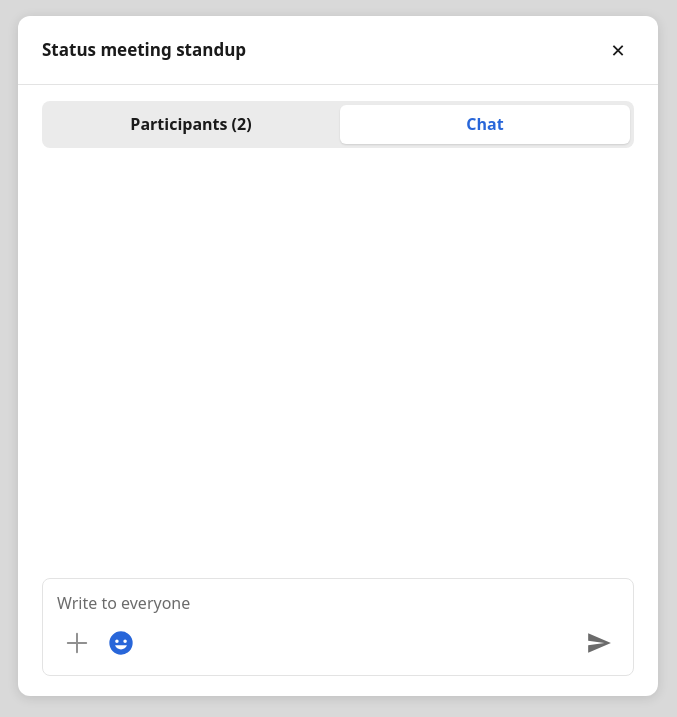
Scenario: presence › you are marked in the list, and nobody else is
Step 1. Click the tab "Participants (2)" → click(191, 125), box [46, 105, 336, 144]
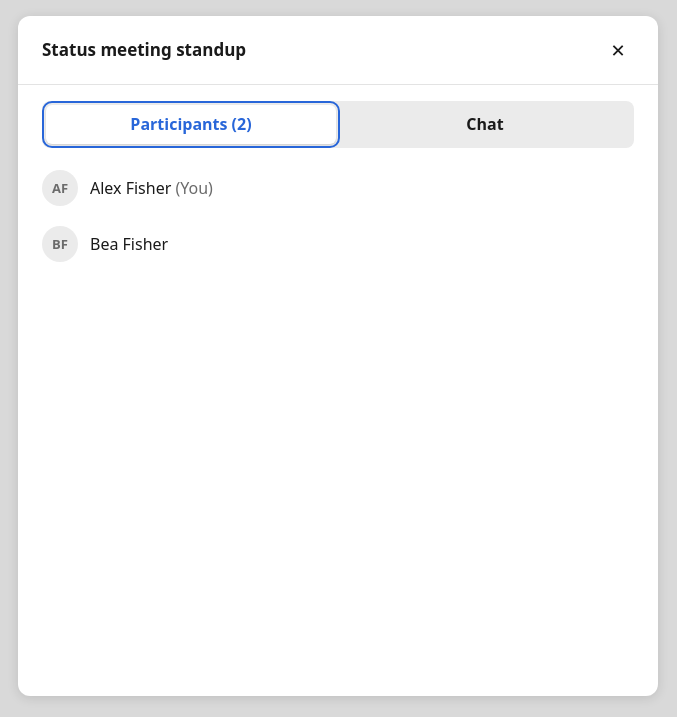
Check: the list item "BF Bea Fisher" does not show "(You)", box [42, 226, 168, 262]
Check: the list item "AF Alex Fisher (You)" is shown, box [42, 170, 213, 206]
Check: the list item "BF Bea Fisher" is shown, box [42, 226, 168, 262]
